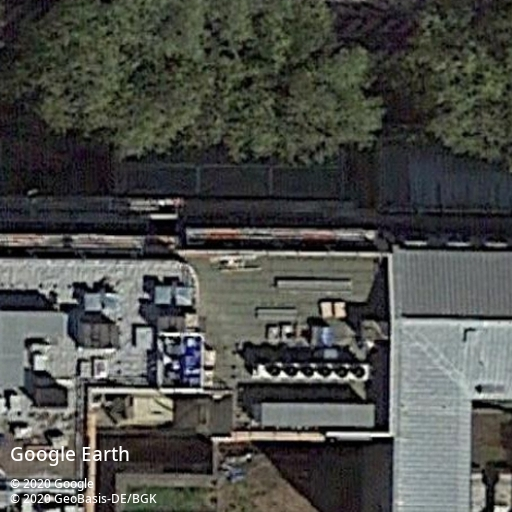Chiller: (255, 360, 372, 383)
